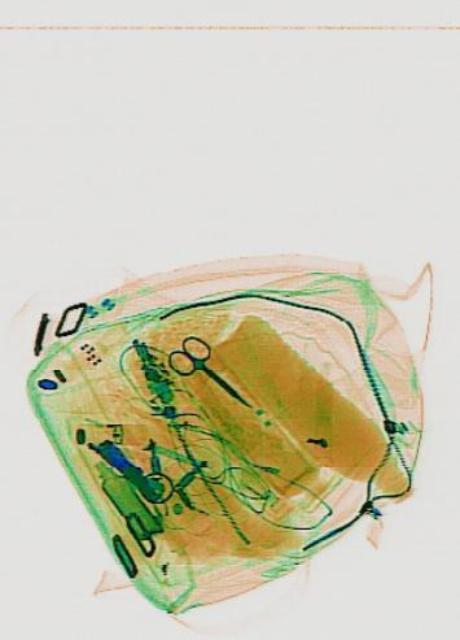Scissors: (162, 324, 260, 426)
